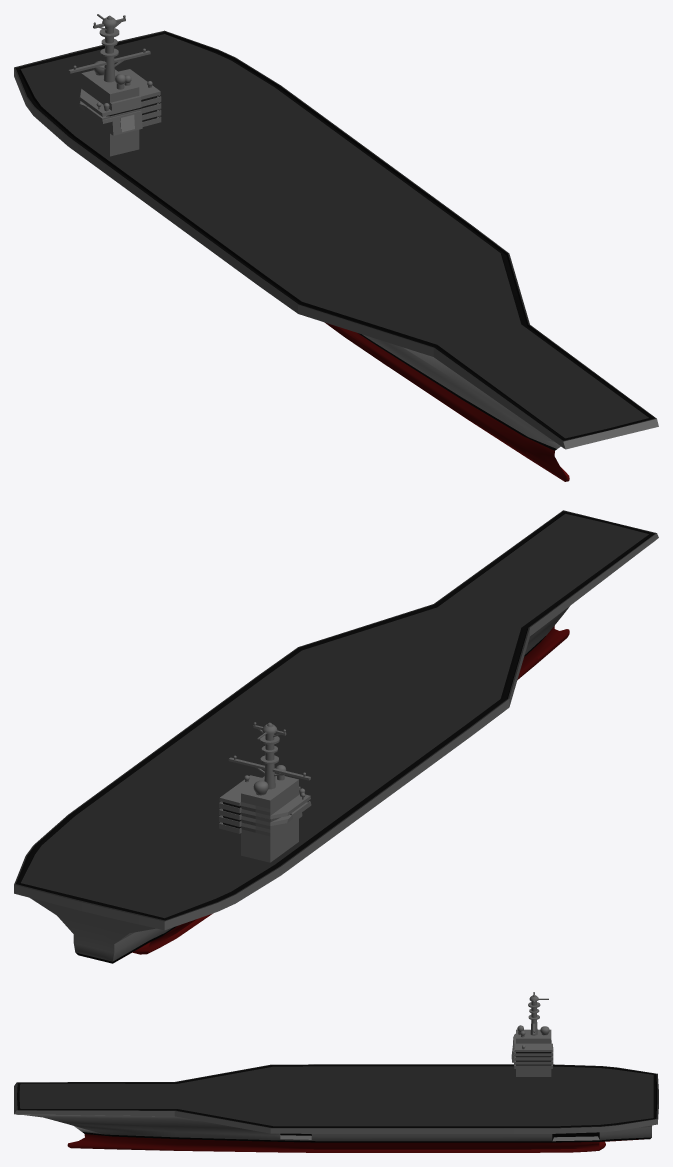
The model's file is Gerald R Ford pt2.fbx.
3 renders of one model, top to bottom at view 1: azimuth 30°, elevation 25°; view 2: azimuth 150°, elevation 25°; view 3: azimuth 270°, elevation 25°, orthographic. The views are drawn at different scales.
Visible parts, largest first — view 1: Cube.004; view 2: Cube.004; view 3: Cube.004.
Part boxes in pixels (x1,y1,x2,y2): Cube.004: (14,14,658,481); Cube.004: (14,510,658,963); Cube.004: (14,992,658,1152).
Size of the model in its own units: 774 by 683 by 3098.
